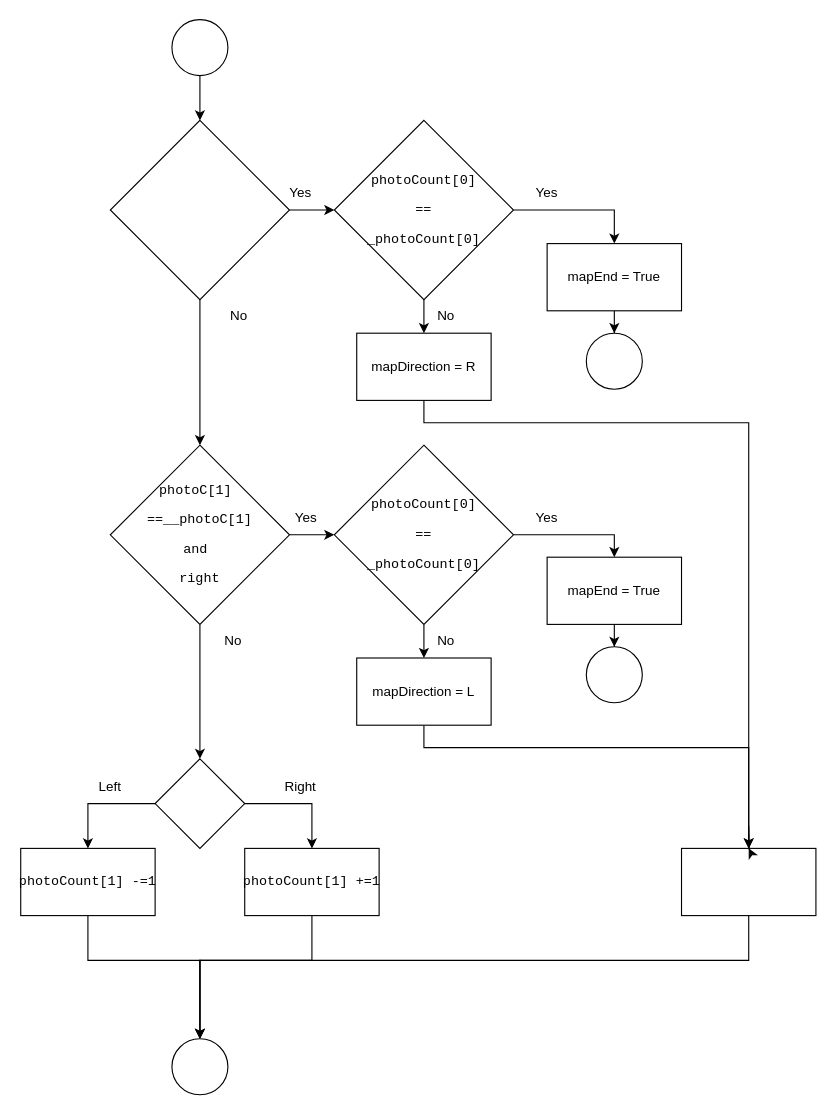
Image size: 836x1114. Some labels were removed from this diagram. The shapes that lost their labels are listed below. From the top down, each one's box as (x1, y1, x2, y2) in pixels, then its label:
(109, 119, 290, 300): photoCount[1] ==0 and left
(154, 758, 245, 848): Left or Right
(680, 847, 816, 916): photoCount[0] +=1
